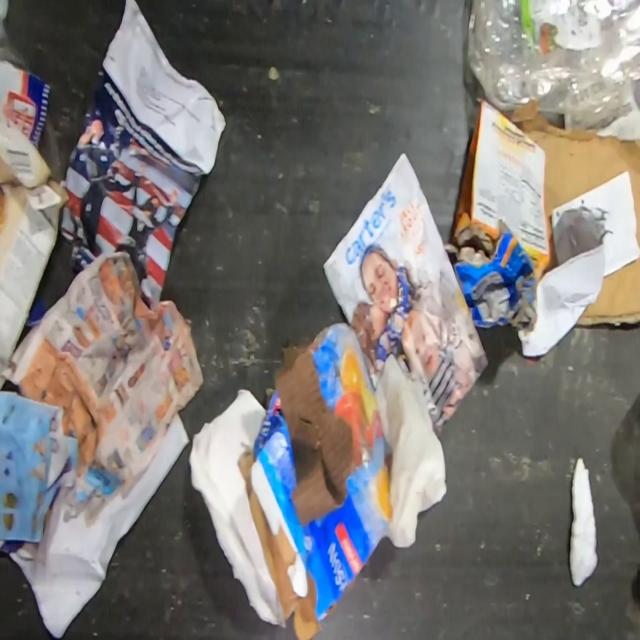cardboard: (237, 323, 391, 640), (0, 118, 69, 398), (451, 98, 552, 270), (443, 220, 544, 337)
rigid_plastic: (466, 0, 640, 128)
